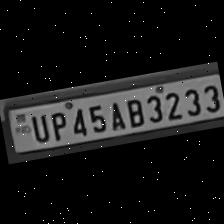2: (160, 87, 184, 120)
3: (197, 79, 222, 113), (178, 82, 202, 116), (141, 89, 164, 123)
4: (64, 103, 88, 136)
5: (82, 99, 108, 133)
A: (103, 96, 125, 129)
B: (120, 92, 144, 126)
P: (43, 106, 67, 140)
U: (25, 110, 50, 142)
